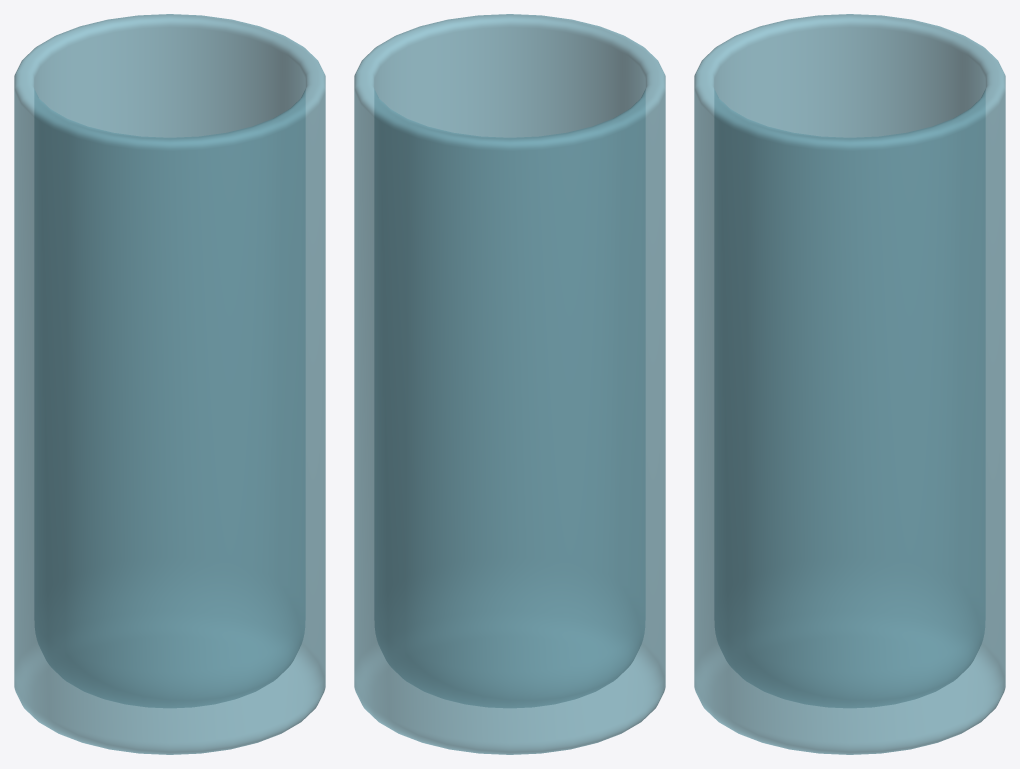
File: Glass.FBX
3 renders of one model, left to right at view 1: azimuth 30°, elevation 25°; view 2: azimuth 150°, elevation 25°; view 3: azimuth 270°, elevation 25°, orthographic.
Visible parts, largest first — view 1: Cylinder001; view 2: Cylinder001; view 3: Cylinder001.
Boxes of the visible parts, x1=… form: Cylinder001: x1=14, y1=14, x2=325, y2=754; Cylinder001: x1=354, y1=14, x2=665, y2=754; Cylinder001: x1=694, y1=14, x2=1005, y2=754.
Size of the model in its own units: 2.76 by 5.98 by 2.74.
